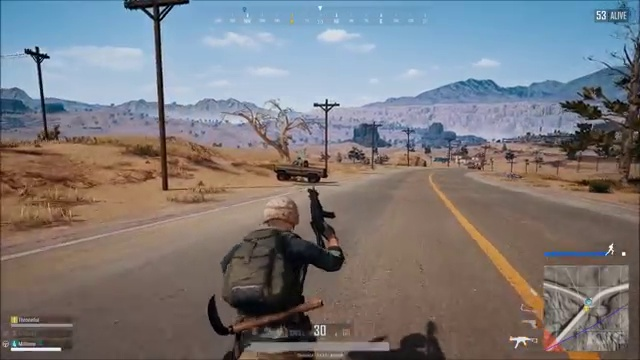Player: (199, 185, 362, 319)
